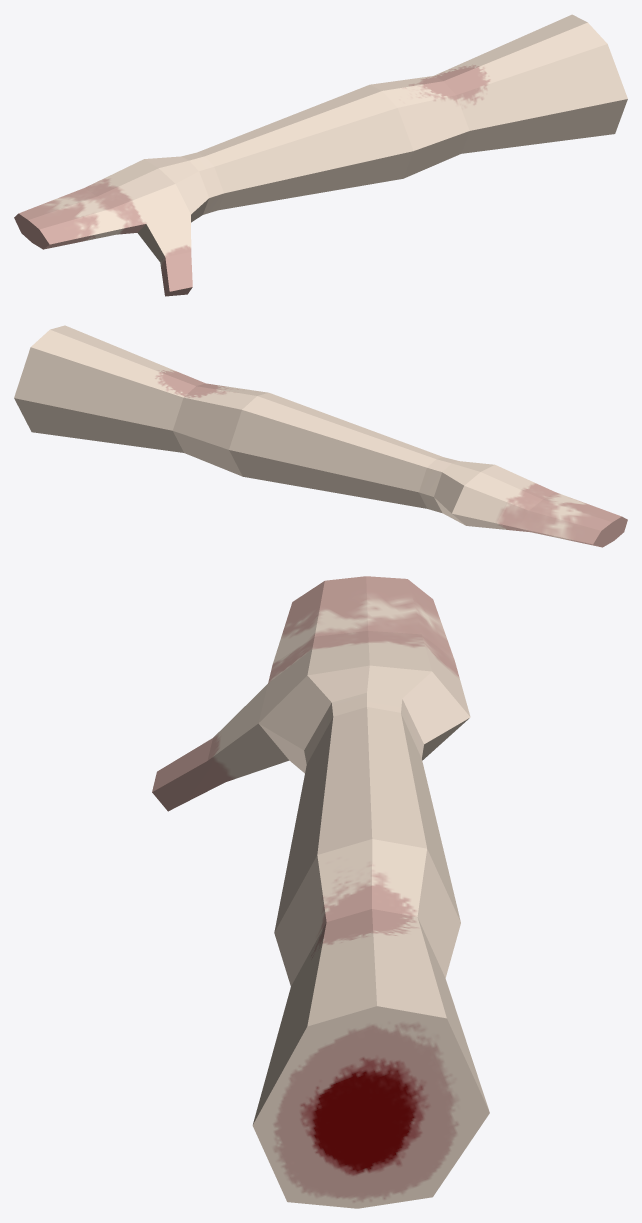
File: lemoikkas.fbx
3 renders of one model, top to bottom at view 1: azimuth 30°, elevation 25°; view 2: azimuth 150°, elevation 25°; view 3: azimuth 270°, elevation 25°, orthographic. The views are drawn at different scales.
Parts seen in each view (by area): view 1: arms.001; view 2: arms.001; view 3: arms.001.
Part boxes in pixels (box(x1,y1,x2,y2)): arms.001: box(14, 14, 627, 296); arms.001: box(14, 325, 627, 547); arms.001: box(152, 576, 489, 1208).
Size of the model in its own units: 136 by 28.05 by 35.03.
